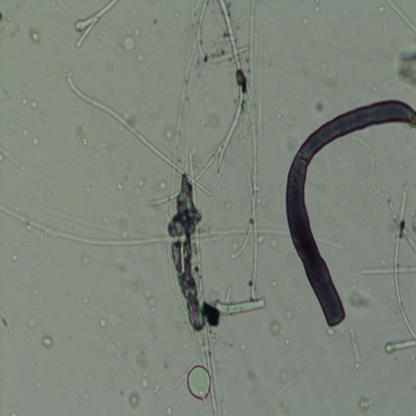Background material: (0, 0, 40, 40), (395, 47, 416, 89), (116, 26, 140, 58), (244, 367, 267, 399), (348, 291, 370, 310), (358, 392, 376, 415), (144, 287, 157, 315), (209, 282, 224, 305), (131, 274, 147, 293), (311, 97, 327, 116), (6, 115, 20, 136), (267, 319, 282, 337), (20, 96, 39, 110), (127, 393, 141, 411), (149, 18, 161, 38), (84, 366, 97, 384), (296, 14, 312, 28), (41, 334, 54, 350), (128, 108, 141, 124), (28, 316, 39, 334), (266, 235, 280, 249), (31, 133, 42, 150), (9, 250, 22, 264), (80, 253, 92, 267), (280, 307, 295, 318), (139, 376, 150, 391), (311, 2, 321, 18), (30, 30, 41, 44), (154, 383, 164, 397), (115, 180, 124, 193), (97, 318, 107, 329), (23, 128, 32, 140), (271, 276, 279, 289), (162, 406, 172, 416), (30, 257, 40, 267), (137, 54, 146, 65), (82, 389, 89, 401), (159, 180, 167, 190), (82, 181, 90, 190), (172, 10, 180, 19), (53, 1, 62, 9), (238, 344, 247, 352), (166, 134, 170, 146), (284, 338, 290, 344), (22, 163, 26, 172)
Glass filter fibre: (66, 74, 212, 197), (0, 202, 291, 248), (167, 202, 228, 414), (38, 136, 126, 246), (231, 1, 266, 262), (197, 0, 245, 177), (75, 298, 138, 378), (374, 167, 416, 257), (392, 186, 416, 338), (66, 70, 96, 159), (243, 171, 260, 300), (72, 1, 118, 35), (273, 366, 310, 399), (185, 359, 211, 402), (350, 135, 376, 175), (387, 1, 416, 35), (312, 225, 346, 253), (215, 297, 267, 315), (346, 324, 366, 369), (74, 16, 99, 49), (384, 336, 416, 356), (360, 266, 416, 277), (0, 304, 14, 336), (0, 144, 20, 165), (134, 179, 151, 195)
Microfibre: (283, 97, 416, 332)
